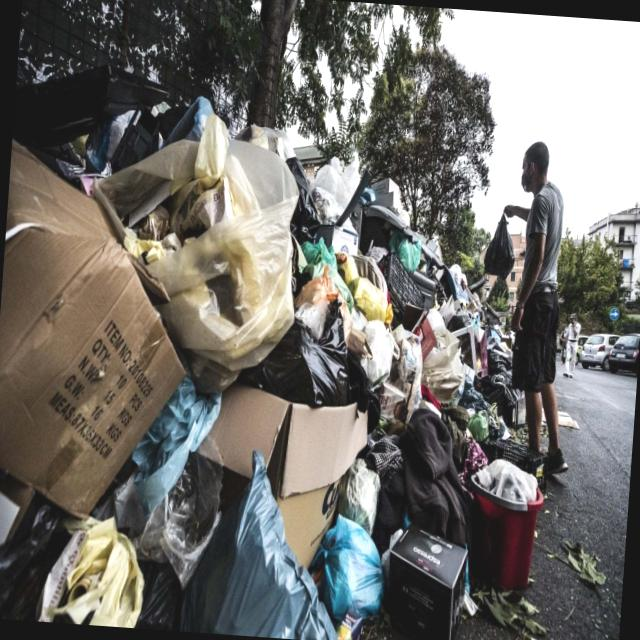garbage: (0, 87, 525, 640)
